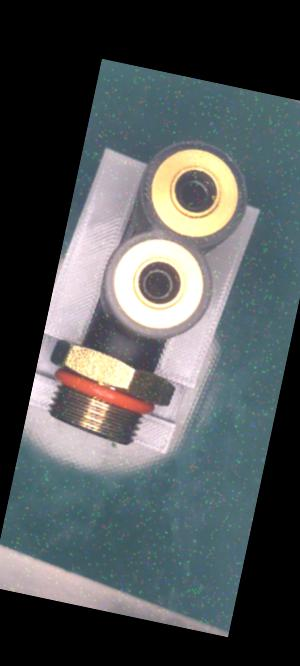joint line: (118, 335, 129, 359)
